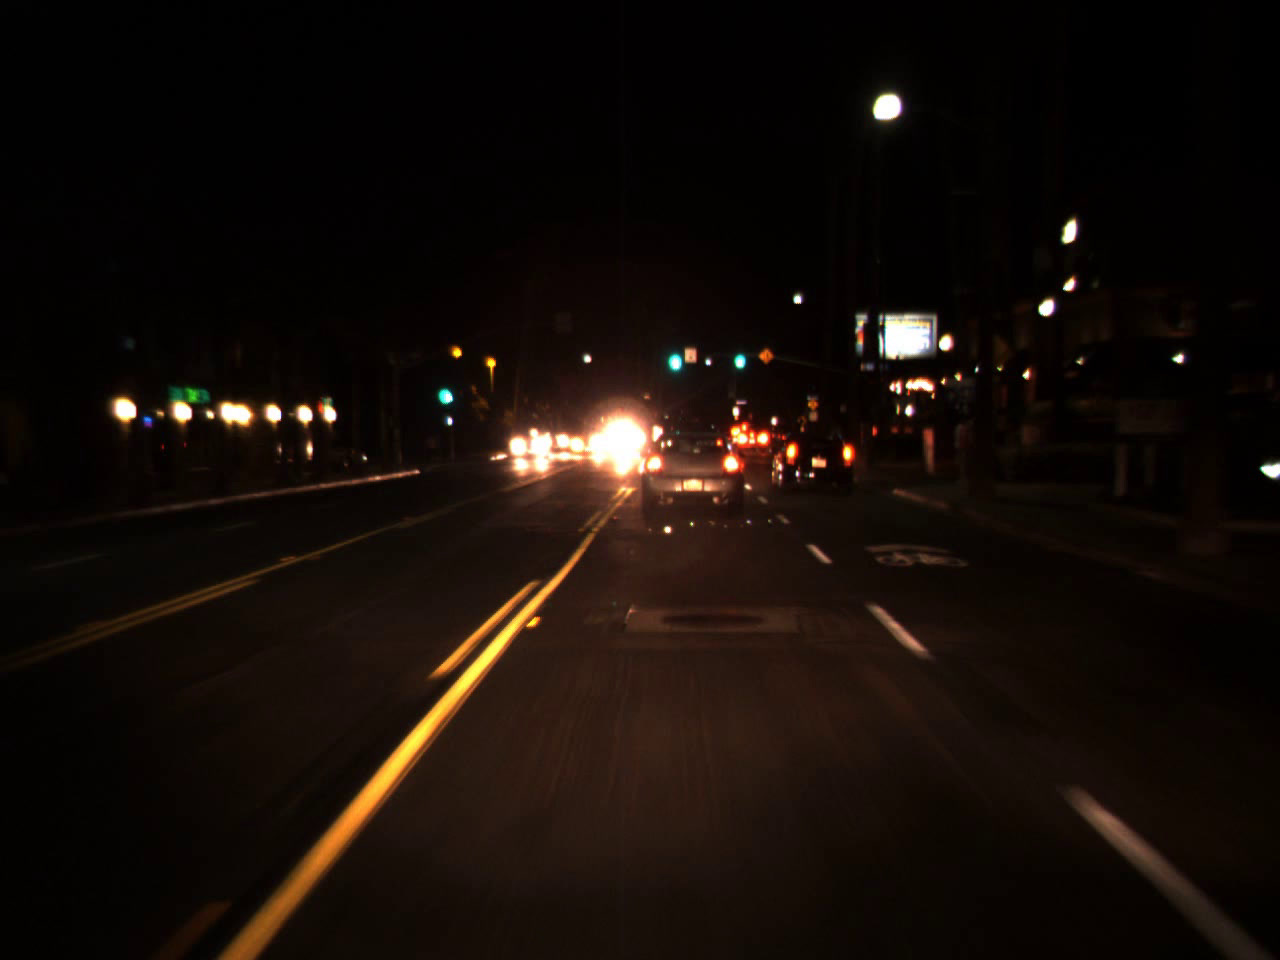go: (664, 332, 683, 377), (434, 370, 455, 409), (730, 341, 748, 368)
